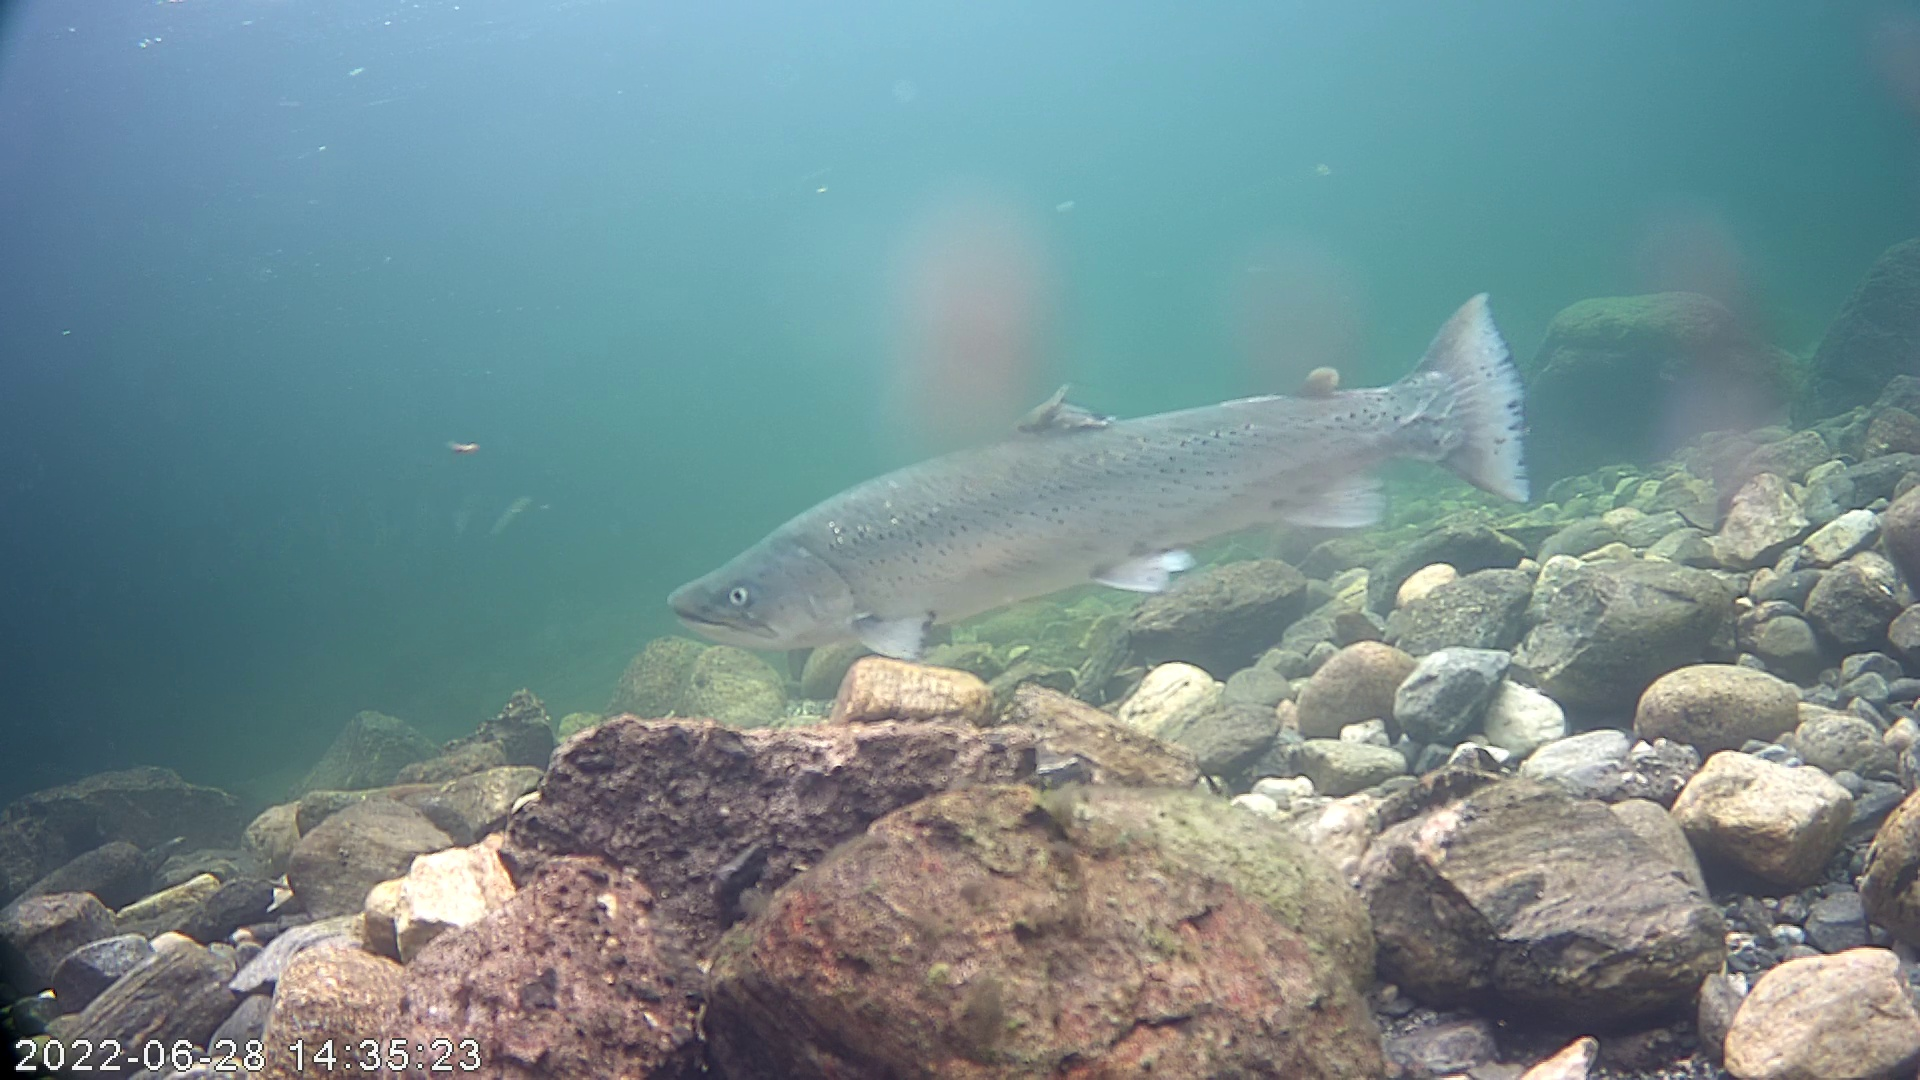salmon: (669, 244, 1575, 659)
